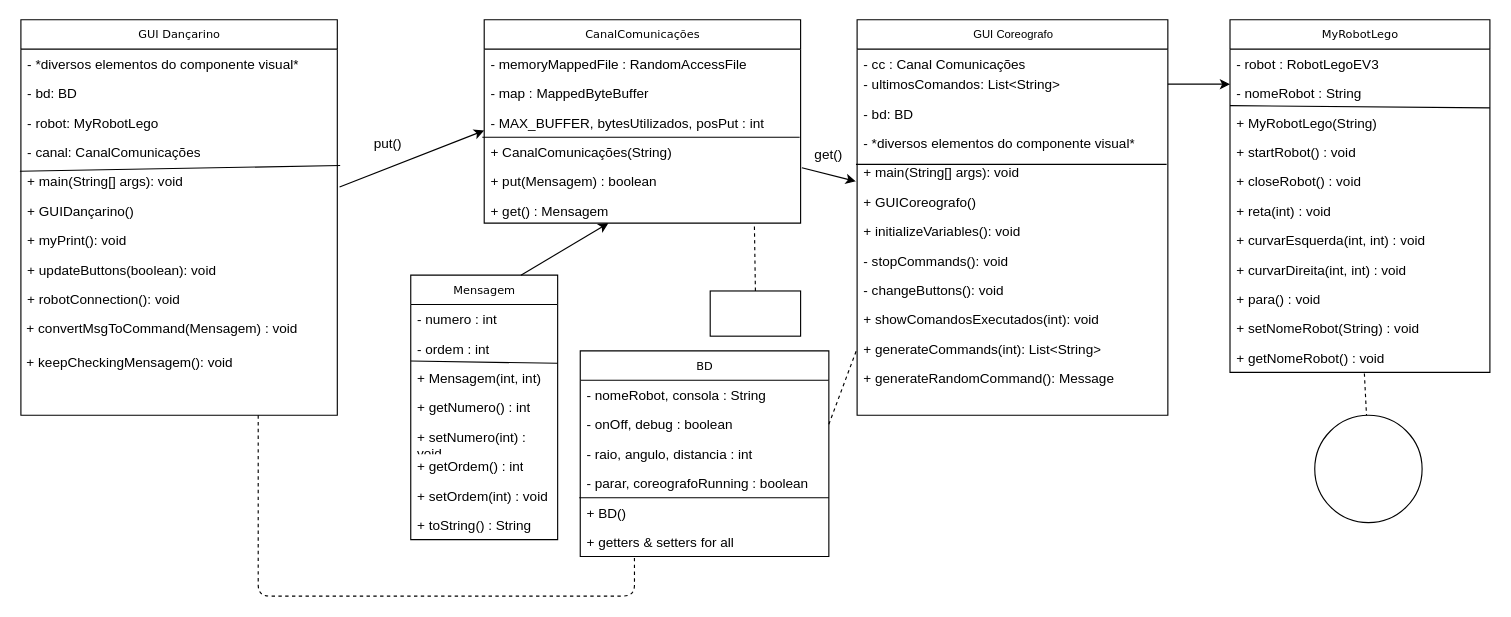
This 1511x617 diagram has some shape labels left out. The centre of each missing label's shape, as x and y in pixels:
"File" belongs at point 755,313.
"RobotLegoEV3" belongs at point 1368,468.
